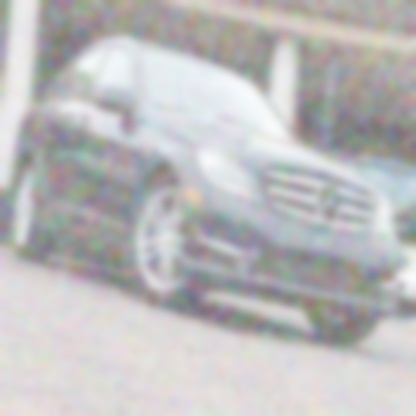Vehicle: (6, 23, 409, 365)
